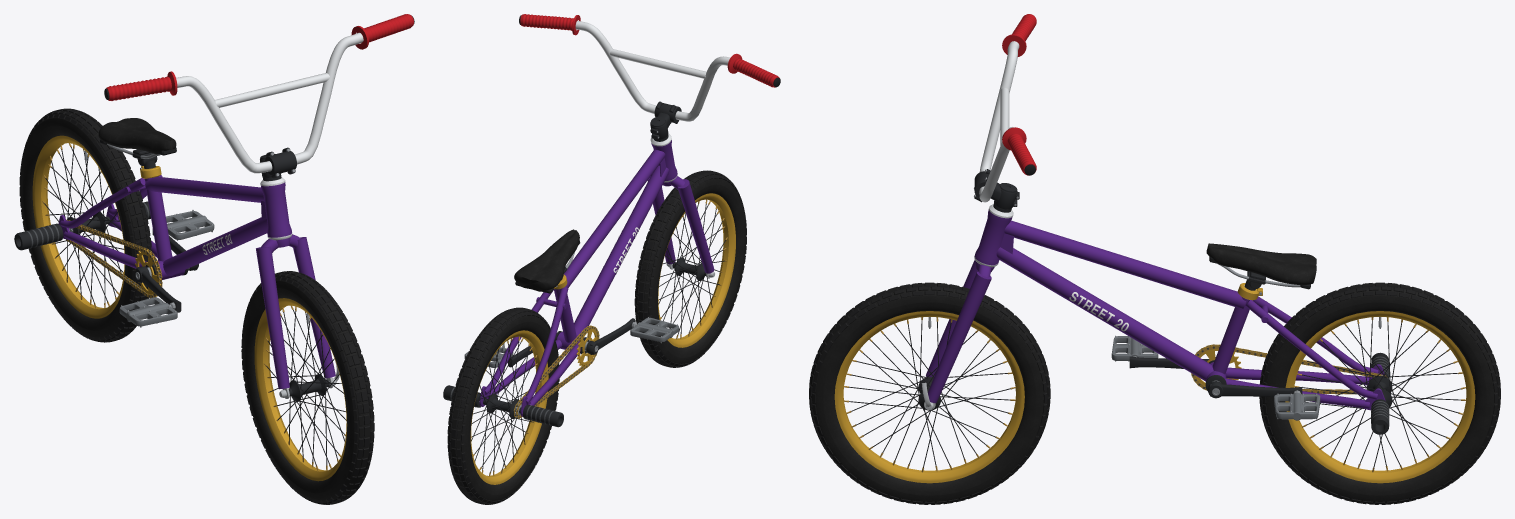
File: bmx-bike.glb
3 views of the same model, side by side, from view 1: azimuth 30°, elevation 25°; view 2: azimuth 150°, elevation 25°; view 3: azimuth 270°, elevation 25° (orthographic). The views are drawn at different scales.
Visible parts, largest first — view 1: Front_Wheel, Rear_Wheel, BMX_Bike, Fork, Crank, Pedal_R, Pedal_L; view 2: BMX_Bike, Front_Wheel, Rear_Wheel, Fork, Crank, Pedal_R; view 3: Front_Wheel, Rear_Wheel, BMX_Bike, Fork, Crank, Pedal_L, Pedal_R.
Boxes of the visible parts, x1,y1,x2,y2 form: Front_Wheel: (241,271,374,504); Rear_Wheel: (19,108,152,342); BMX_Bike: (14,118,292,298); Fork: (104,14,414,398); Crank: (134,229,198,312); Pedal_R: (119,296,177,327); Pedal_L: (166,210,214,240); BMX_Bike: (443,133,677,427); Front_Wheel: (634,170,746,367); Rear_Wheel: (447,307,559,504); Fork: (519,14,780,278); Crank: (508,318,635,367); Pedal_R: (630,317,679,343); Front_Wheel: (809,282,1050,504); Rear_Wheel: (1259,282,1500,504); BMX_Bike: (974,204,1389,434); Fork: (921,14,1036,410); Crank: (1129,345,1302,398); Pedal_L: (1274,390,1320,420); Pedal_R: (1111,335,1158,361).
Size of the model in its own units: 0.764 by 0.9866 by 1.47.
19 materials, 4 textured.
